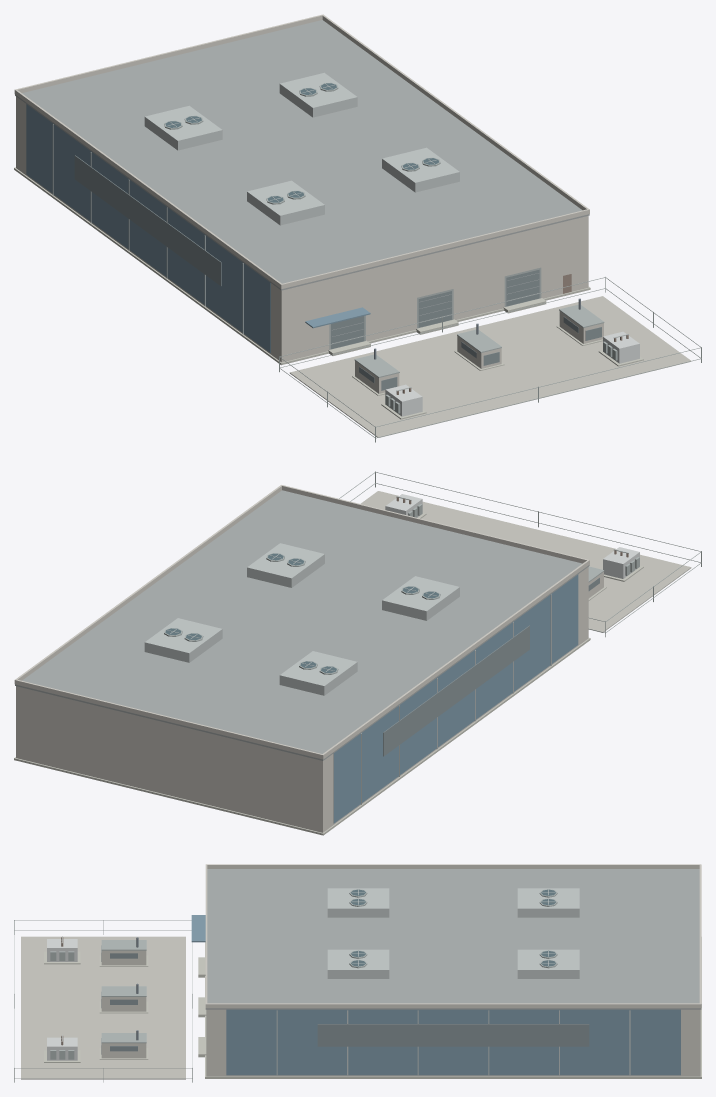
The model's file is dc-secure-service-hall.glb.
3 views of the same model, one above another, from view 1: azimuth 30°, elevation 25°; view 2: azimuth 150°, elevation 25°; view 3: azimuth 270°, elevation 25° (orthographic). The views are drawn at different scales.
Parts seen in each view (by area): view 1: dc-secure-service-hall; view 2: dc-secure-service-hall; view 3: dc-secure-service-hall.
Boxes of the visible parts, bbox=[...] form: dc-secure-service-hall: bbox=[14, 14, 701, 442]; dc-secure-service-hall: bbox=[14, 471, 701, 835]; dc-secure-service-hall: bbox=[14, 864, 701, 1082].
Size of the model in its own units: 51.08 by 12.99 by 100.
